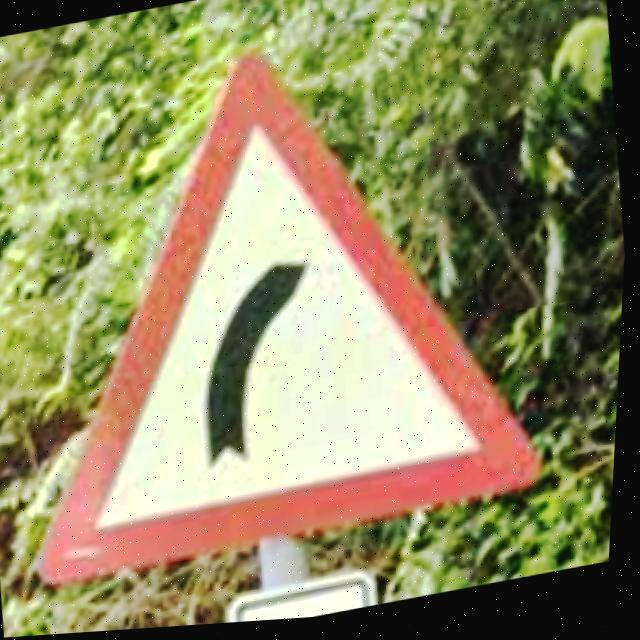rightbend: (48, 57, 545, 589)
